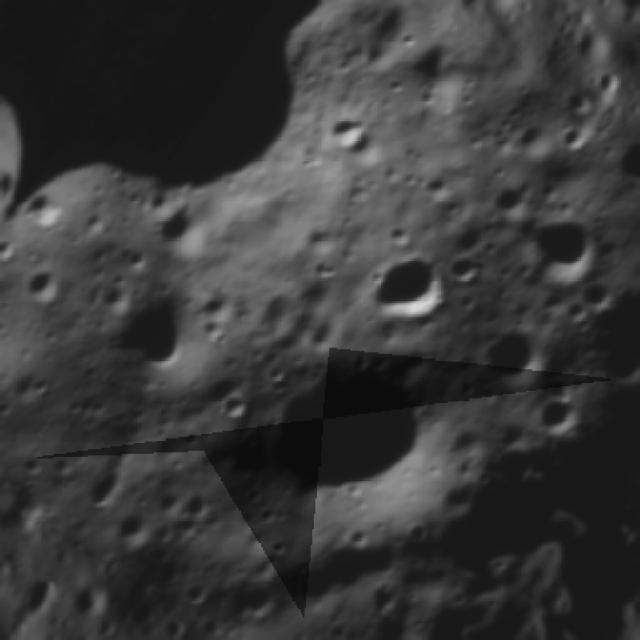crater: (59, 0, 388, 249), (231, 310, 487, 561), (85, 250, 244, 404), (360, 221, 468, 342), (514, 189, 626, 300), (569, 241, 640, 410), (133, 175, 227, 272), (470, 298, 556, 402), (8, 168, 88, 246), (15, 257, 88, 326), (2, 351, 75, 418), (321, 109, 388, 174), (528, 381, 590, 448), (532, 85, 600, 143), (354, 595, 440, 640), (600, 129, 640, 211), (40, 442, 95, 496), (179, 478, 235, 530), (296, 214, 347, 264), (441, 245, 492, 292), (236, 580, 284, 629), (109, 501, 158, 548), (380, 56, 426, 106), (10, 442, 52, 486), (209, 388, 248, 428), (0, 436, 22, 496), (0, 230, 26, 273), (182, 579, 212, 610)
